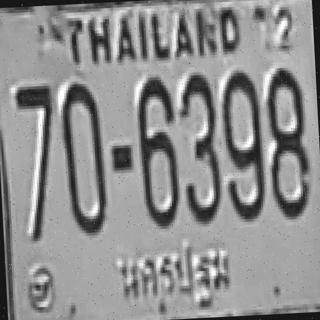N00: (59, 80, 108, 234), (218, 68, 263, 166)
N03: (178, 72, 222, 225)
N06: (134, 74, 180, 227)
N08: (264, 66, 310, 219)
N09: (220, 75, 265, 220)
P28: (113, 237, 237, 316)
